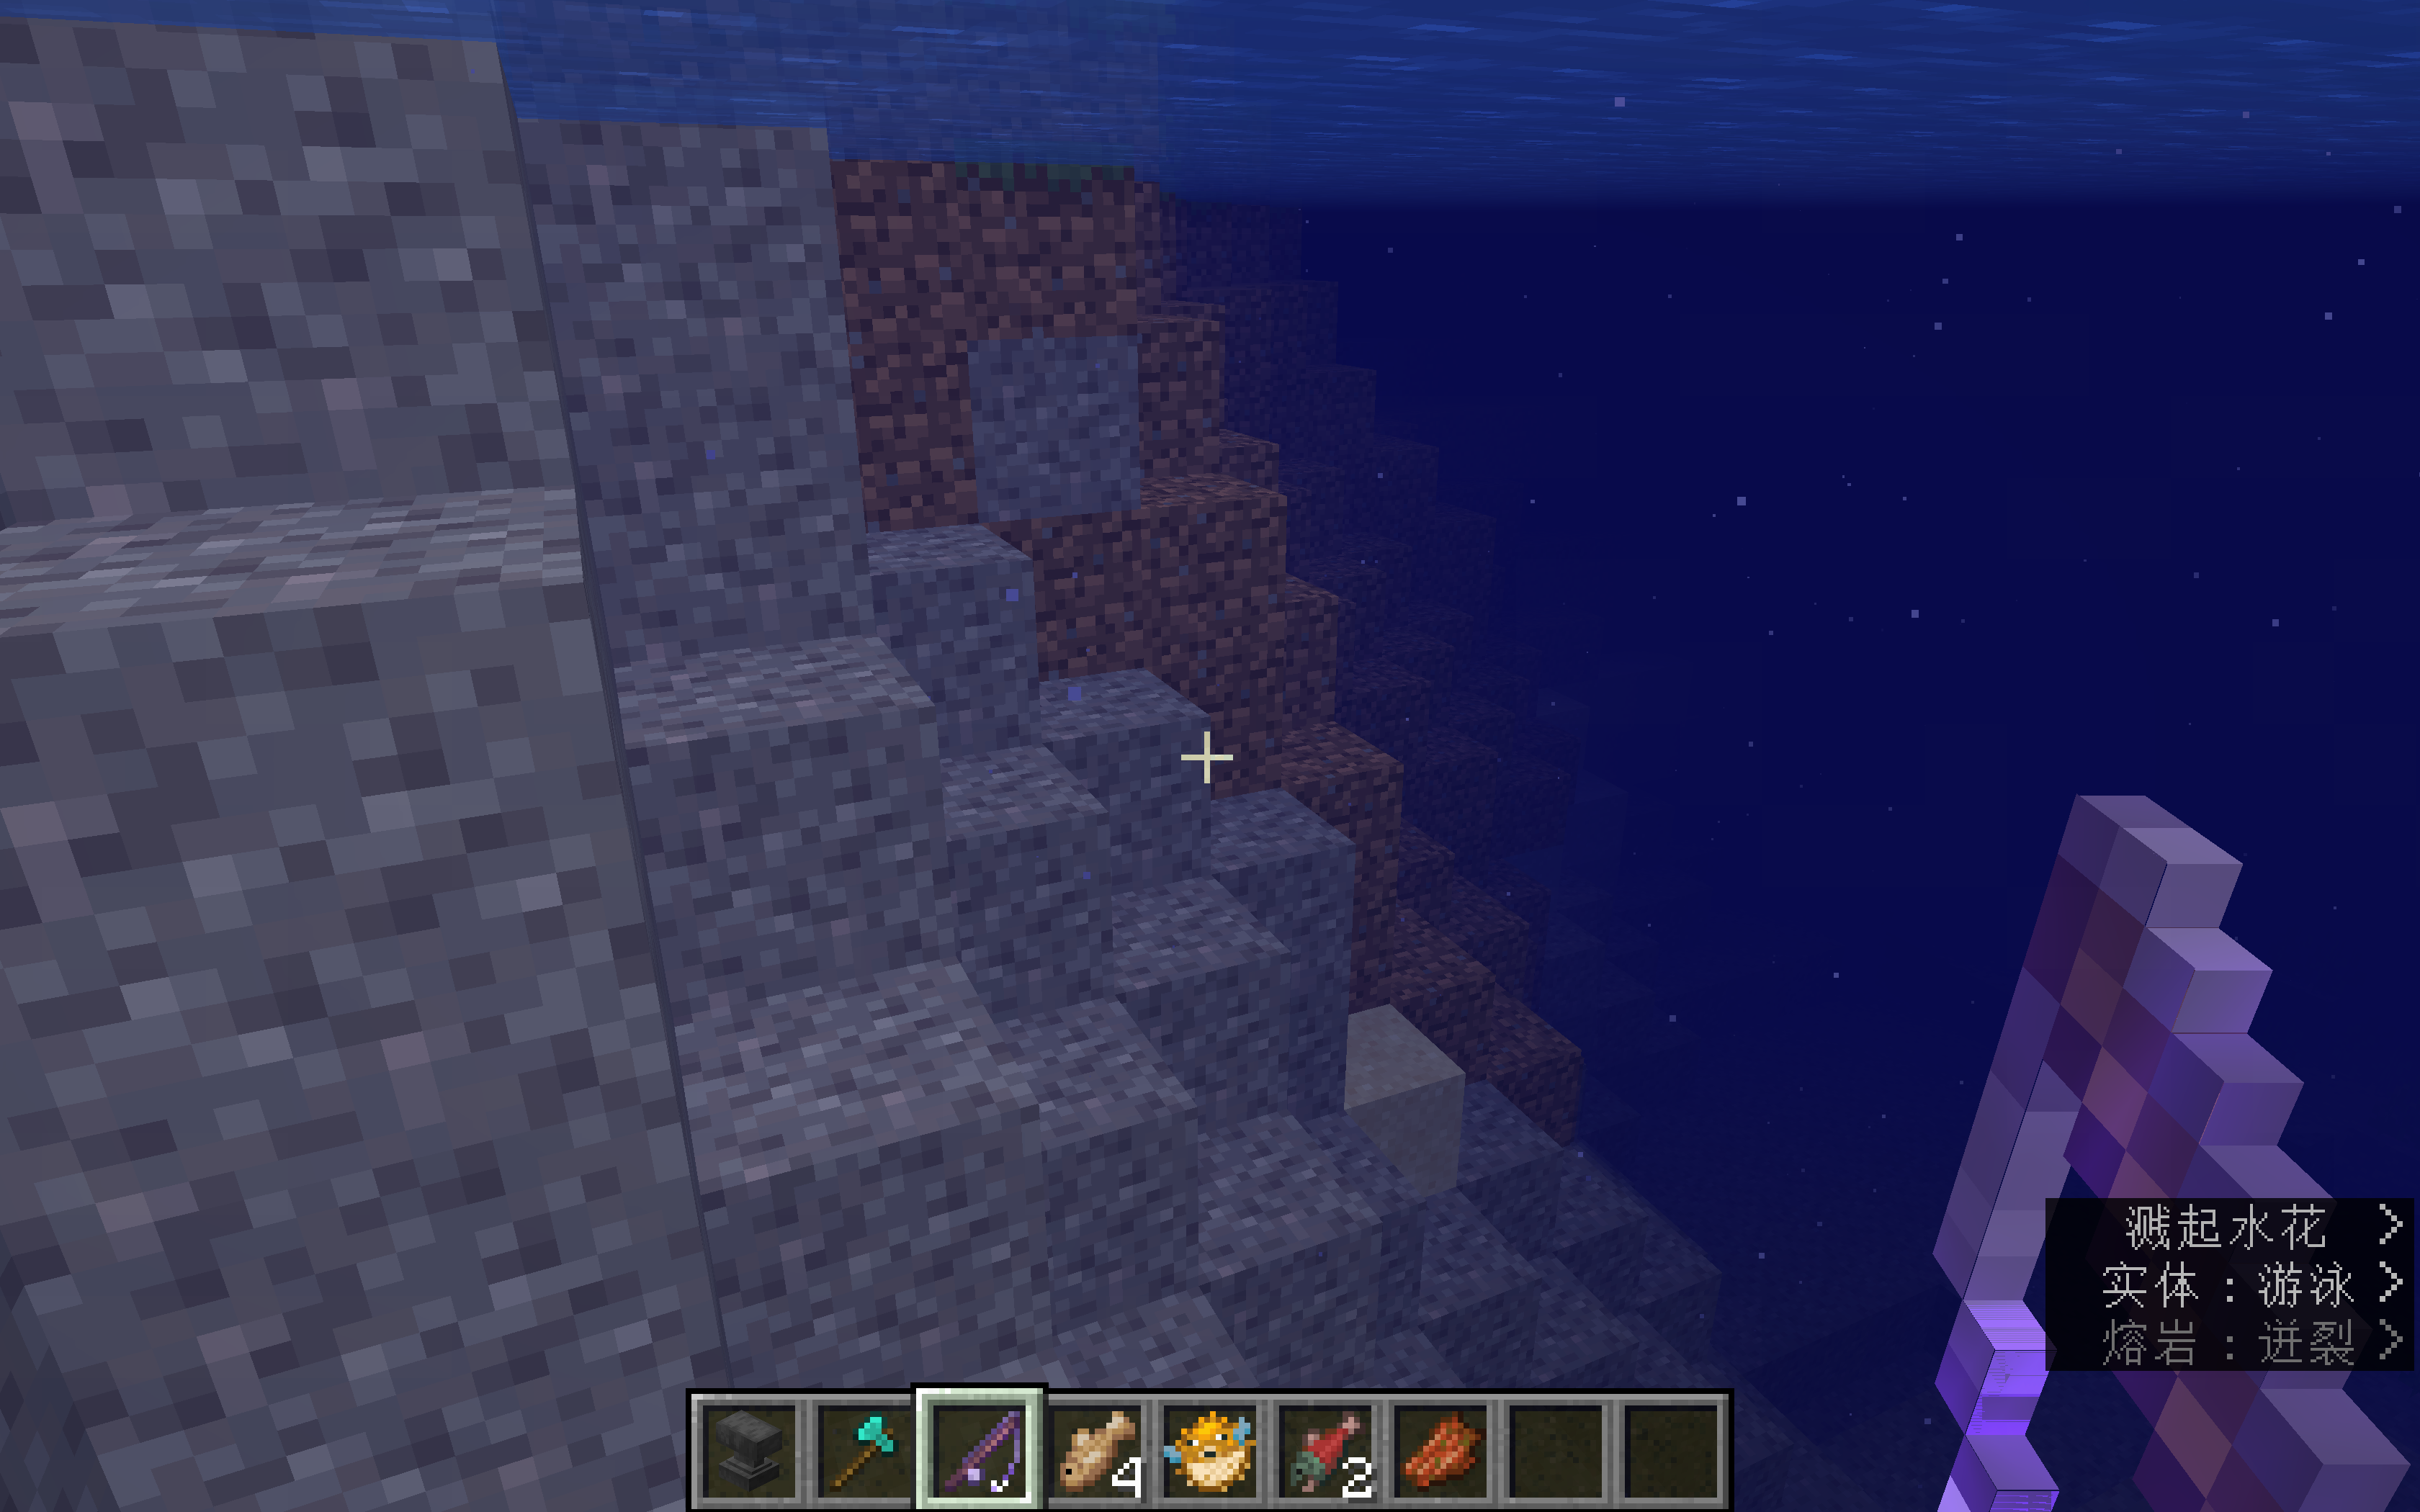inf: (2045, 1197, 2417, 1371)
